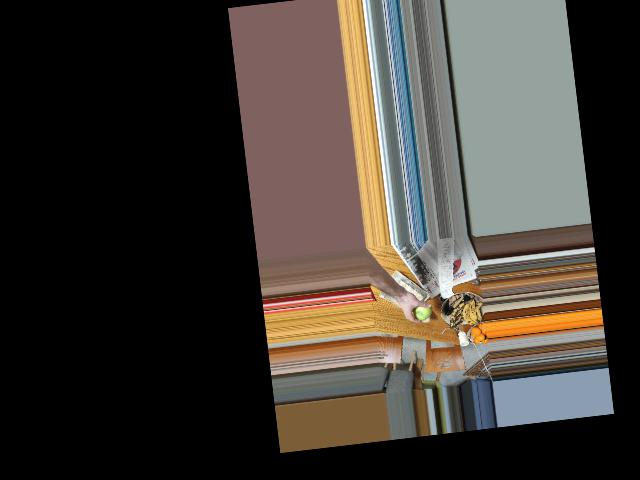apple: (408, 298, 434, 324)
